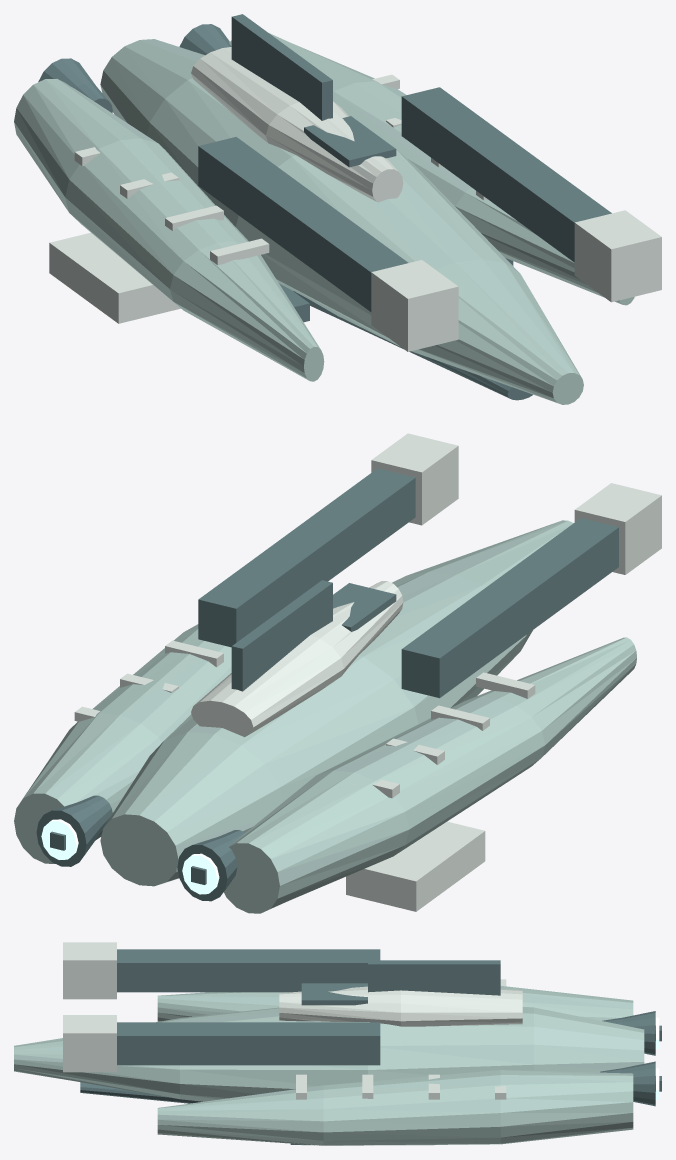
The picture shows the model from 3 angles, top to bottom: view 1: azimuth 30°, elevation 25°; view 2: azimuth 150°, elevation 25°; view 3: azimuth 270°, elevation 25°; orthographic projection. The views are drawn at different scales.
Bounding box in the file's own units: 11.85 × 6.53 × 24.1.
